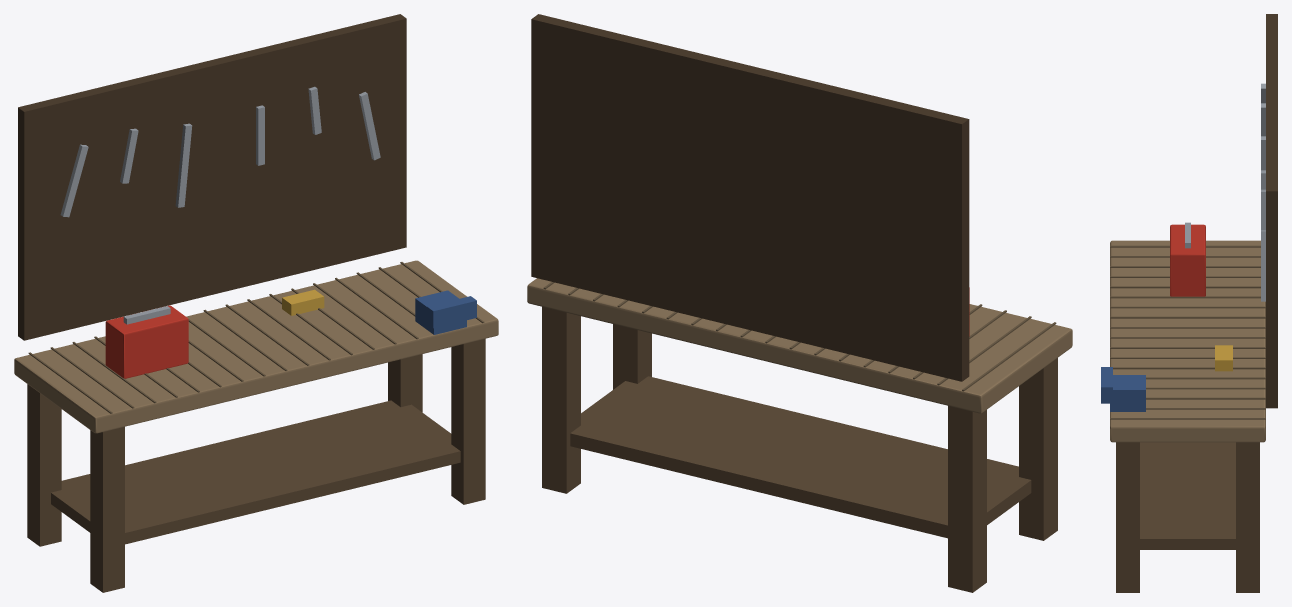
File: workbench.glb
The picture shows the model from 3 angles, left to right: view 1: azimuth 30°, elevation 25°; view 2: azimuth 150°, elevation 25°; view 3: azimuth 270°, elevation 25°; orthographic projection. The views are drawn at different scales.
Parts seen in each view (by area): view 1: part-pegboard, part-bench-wood, part-bench-top, part-toolbox, part-steel, part-seam, part-vice, part-rag; view 2: part-pegboard, part-bench-wood, part-bench-top, part-seam; view 3: part-bench-top, part-bench-wood, part-seam, part-pegboard, part-toolbox, part-vice, part-steel, part-rag.
Boxes of the visible parts, x1=… form: part-pegboard: x1=18, y1=14, x2=406, y2=340; part-bench-wood: x1=27, y1=338, x2=485, y2=592; part-bench-top: x1=14, y1=260, x2=498, y2=433; part-toolbox: x1=105, y1=305, x2=188, y2=378; part-steel: x1=60, y1=86, x2=380, y2=324; part-seam: x1=28, y1=262, x2=484, y2=413; part-vice: x1=415, y1=290, x2=476, y2=334; part-rag: x1=282, y1=289, x2=324, y2=315; part-pegboard: x1=531, y1=14, x2=969, y2=381; part-bench-wood: x1=542, y1=306, x2=1057, y2=592; part-bench-top: x1=527, y1=278, x2=1072, y2=413; part-seam: x1=543, y1=282, x2=1056, y2=391; part-bench-top: x1=1110, y1=240, x2=1265, y2=442; part-bench-wood: x1=1116, y1=442, x2=1259, y2=592; part-seam: x1=1110, y1=245, x2=1265, y2=419; part-pegboard: x1=1266, y1=14, x2=1277, y2=408; part-toolbox: x1=1170, y1=224, x2=1205, y2=296; part-vice: x1=1101, y1=367, x2=1145, y2=411; part-steel: x1=1185, y1=83, x2=1265, y2=301; part-rag: x1=1215, y1=345, x2=1232, y2=371.
Size of the model in its own units: 74 by 74 by 29.5.
